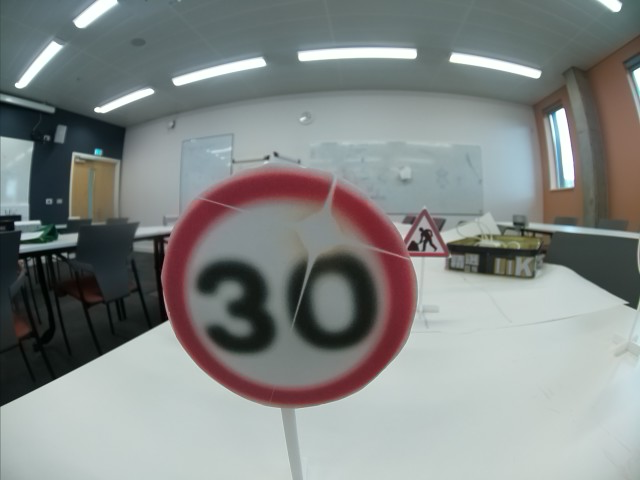30mph: (159, 157, 417, 408)
Roadworks: (403, 206, 450, 258)
